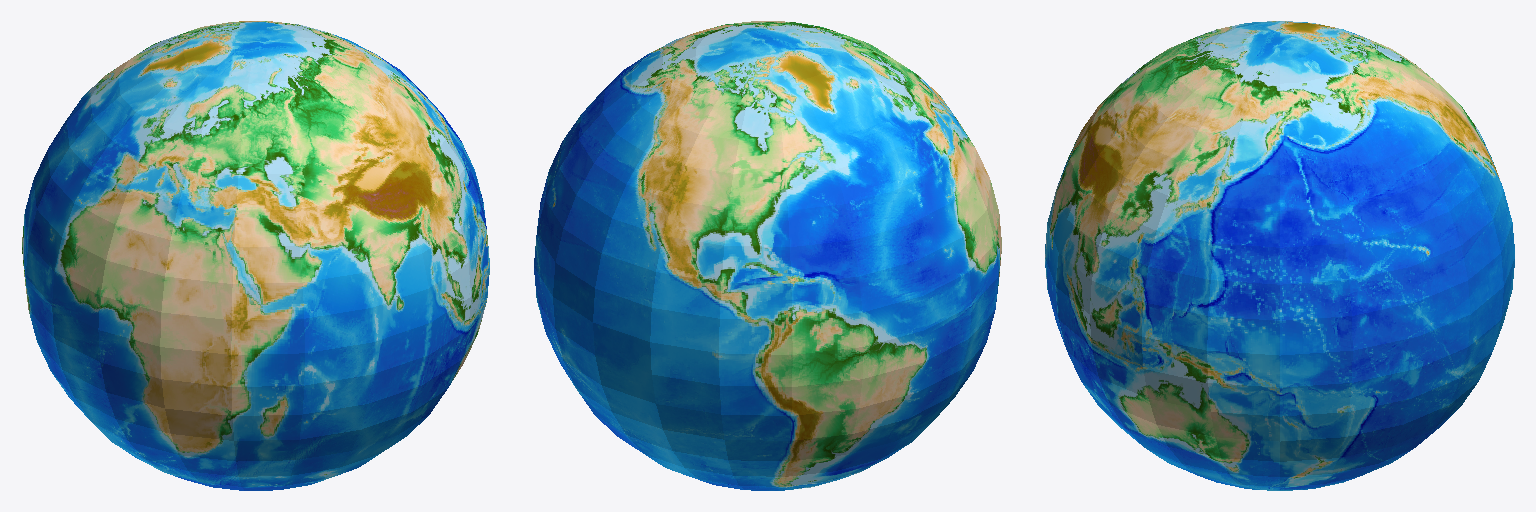
3 views of the same model, side by side, from view 1: azimuth 30°, elevation 25°; view 2: azimuth 150°, elevation 25°; view 3: azimuth 270°, elevation 25° (orthographic).
Parts seen in each view (by area): view 1: pSphere1; view 2: pSphere1; view 3: pSphere1.
Boxes of the visible parts, <box> form: pSphere1: <box>22,21,489,490</box>; pSphere1: <box>534,21,1001,490</box>; pSphere1: <box>1045,21,1514,490</box>.
Bounding box in the file's own units: 2 × 2 × 2.
Materials: 1 (1 with a texture image).